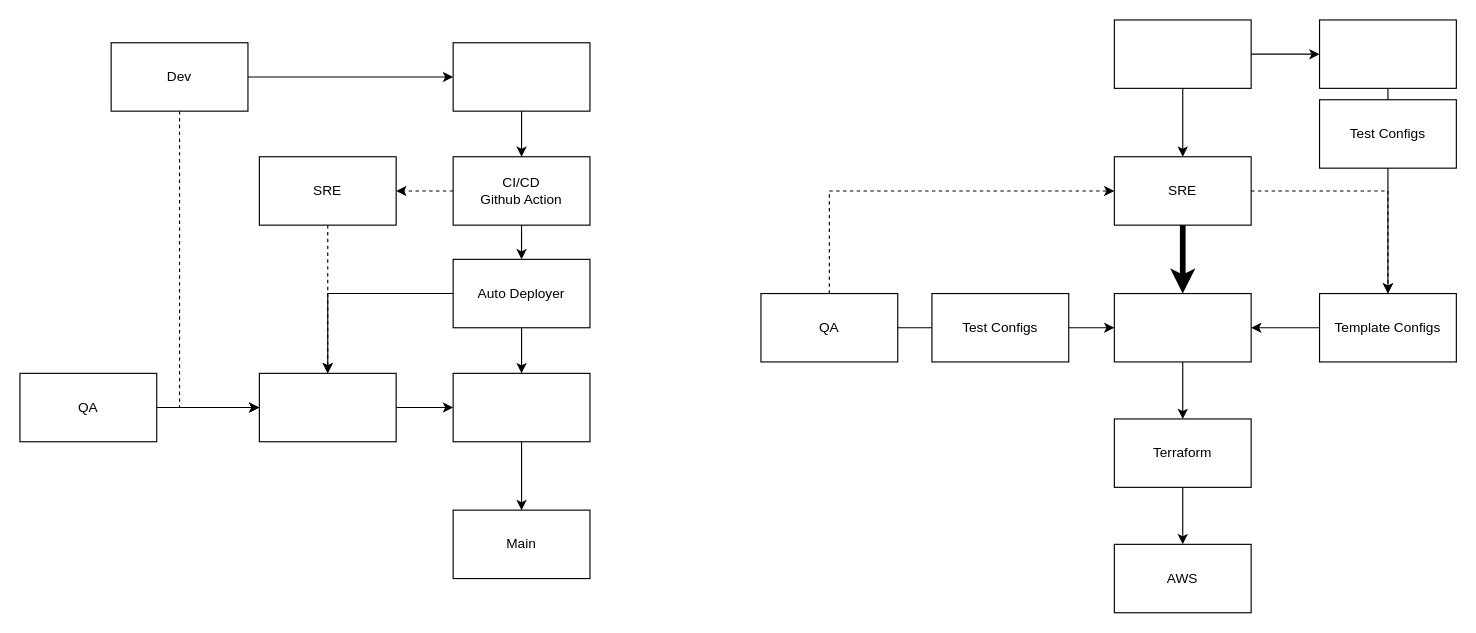
The diagram is 1476 pixels wide and 633 high, and some of its shapes have lost their labels. Each missing label, with the centre of its shape:
"Countdown" belongs at pixel 1387 53.
"Deploy(Build)" belongs at pixel 521 407.
"Deploy(Test)" belongs at pixel 327 407.
"Github Action" belongs at pixel 1182 53.
"Python" belongs at pixel 1182 327.
"Repo/Dev" belongs at pixel 521 76.
